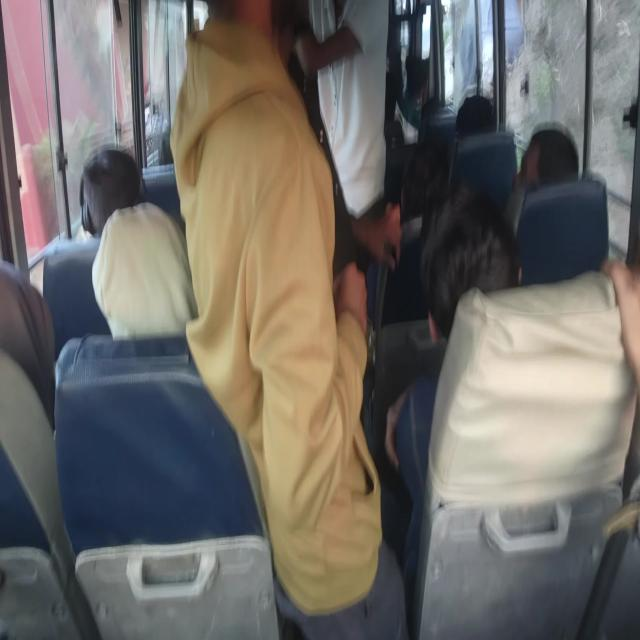person: (170, 20, 299, 190), (421, 187, 520, 339), (305, 0, 393, 154), (104, 219, 188, 345), (513, 178, 608, 289), (40, 240, 110, 369), (451, 130, 518, 210), (80, 143, 138, 222), (528, 120, 584, 179), (458, 85, 502, 131)
